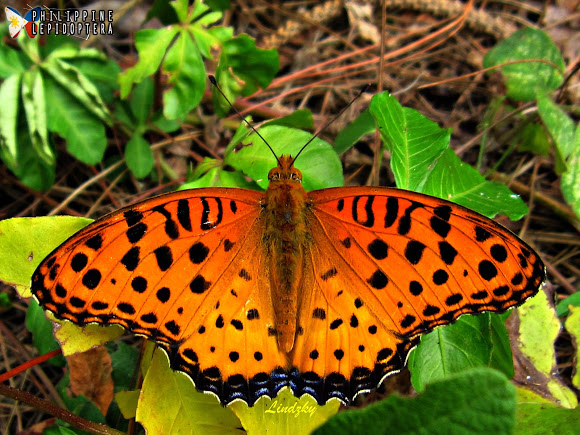Argyreus hyperbius: (25, 69, 551, 412)
butterfly: (27, 71, 553, 414)
